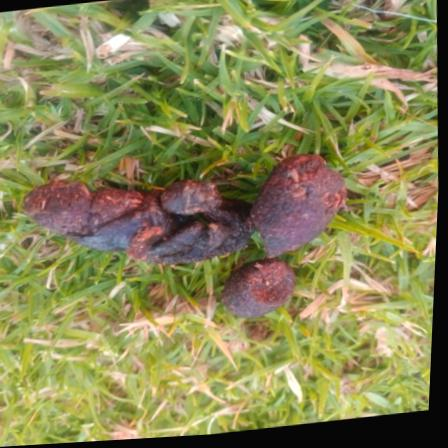dog-poop: (44, 148, 330, 333)
